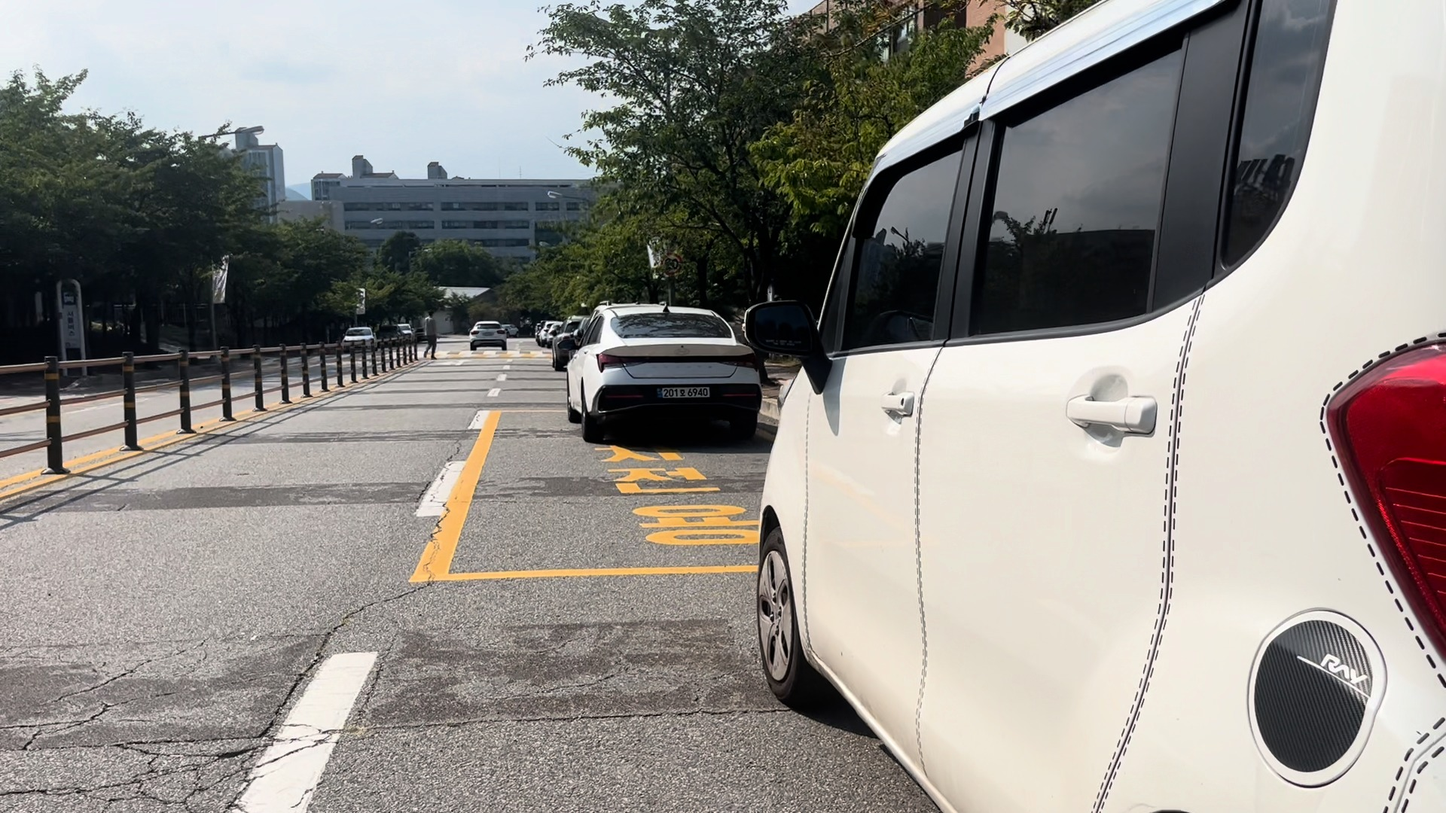door_handle: (1066, 396, 1157, 434), (880, 391, 914, 414)
side_mirror: (743, 305, 813, 352)
tail_light: (1327, 344, 1445, 644), (596, 353, 632, 371)
